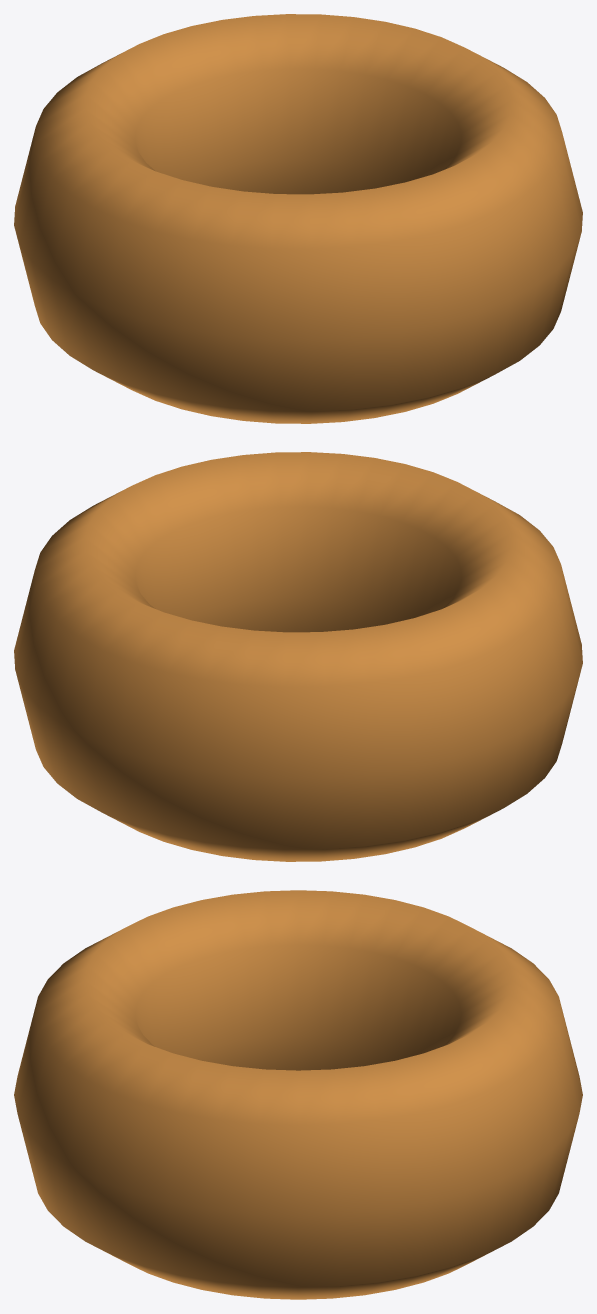
Rendered from wp-paris-brest.glb.
3 renders of one model, top to bottom at view 1: azimuth 30°, elevation 25°; view 2: azimuth 150°, elevation 25°; view 3: azimuth 270°, elevation 25°, orthographic.
Visible parts, largest first — view 1: wp-paris-brest; view 2: wp-paris-brest; view 3: wp-paris-brest.
Part boxes in pixels (x1=…): wp-paris-brest: x1=14, y1=14, x2=582, y2=423; wp-paris-brest: x1=14, y1=452, x2=582, y2=861; wp-paris-brest: x1=14, y1=890, x2=582, y2=1299.
Bounding box in the file's own units: 0.18 × 0.08 × 0.18.
